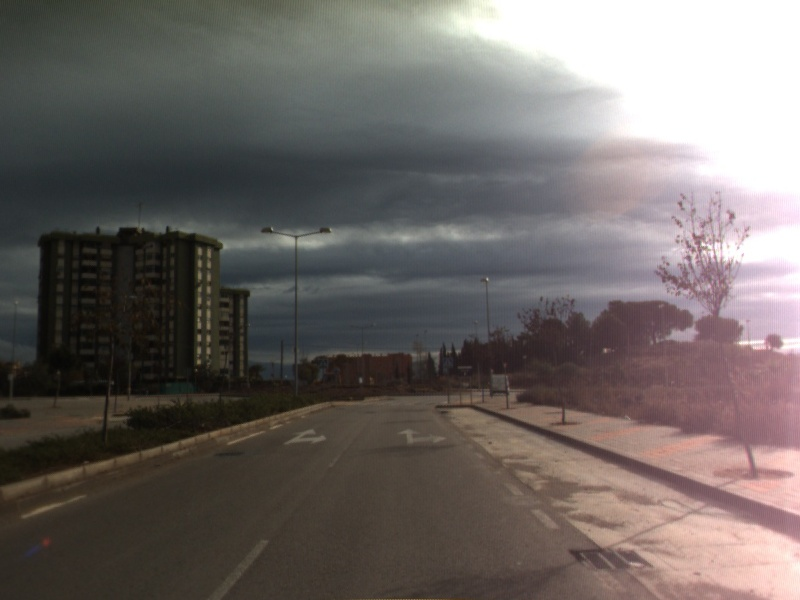STRAIGHT_RIGHT: (395, 426, 449, 446), (281, 426, 328, 447)
